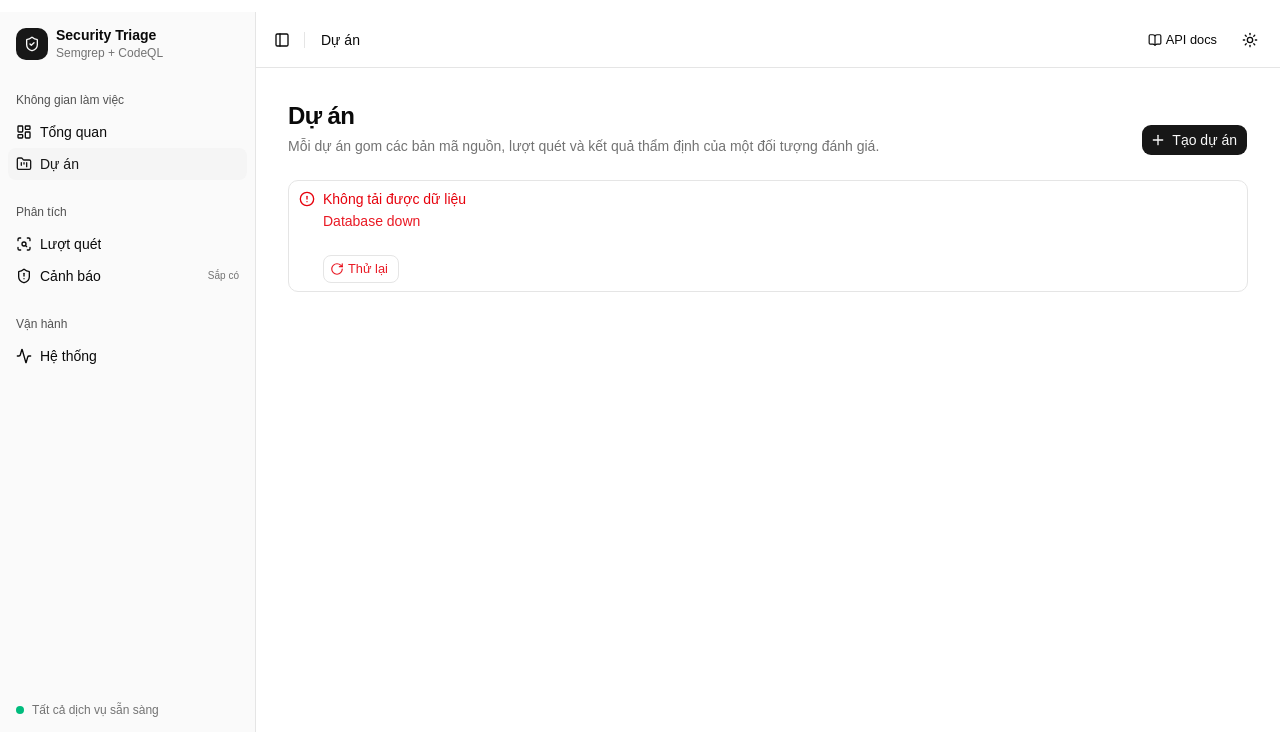
Test: Projects page › shows the API error and recovers on retry
Expected: the text "Database down" is shown, [323, 213, 420, 229]
Click the button "Thử lại".
click(361, 269)  # box [323, 255, 399, 283]
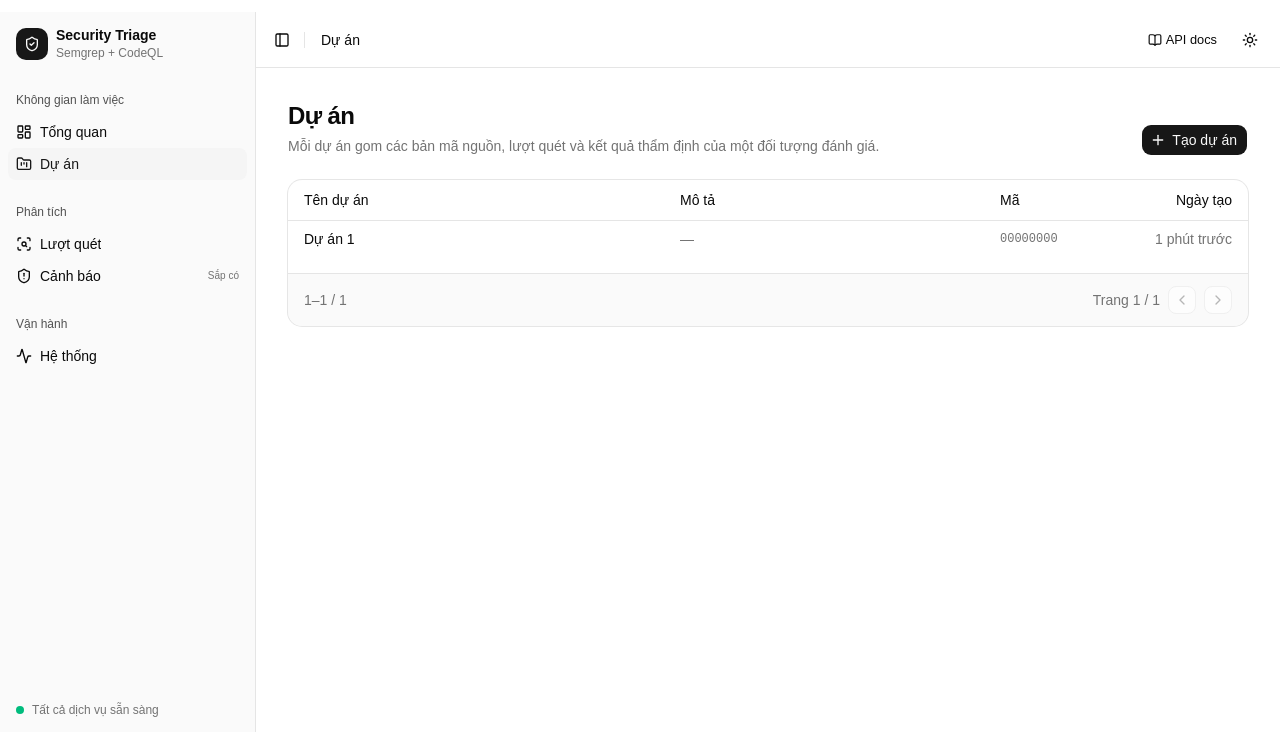
Expected: the link "Dự án 1" is shown, [304, 230, 355, 246]
